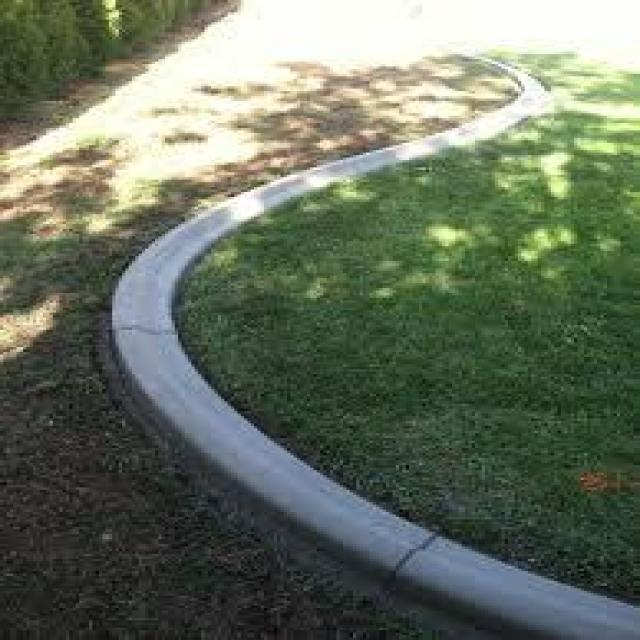curb: (387, 519, 640, 640), (172, 457, 417, 565), (95, 236, 208, 345), (318, 117, 463, 190), (162, 180, 297, 242)
